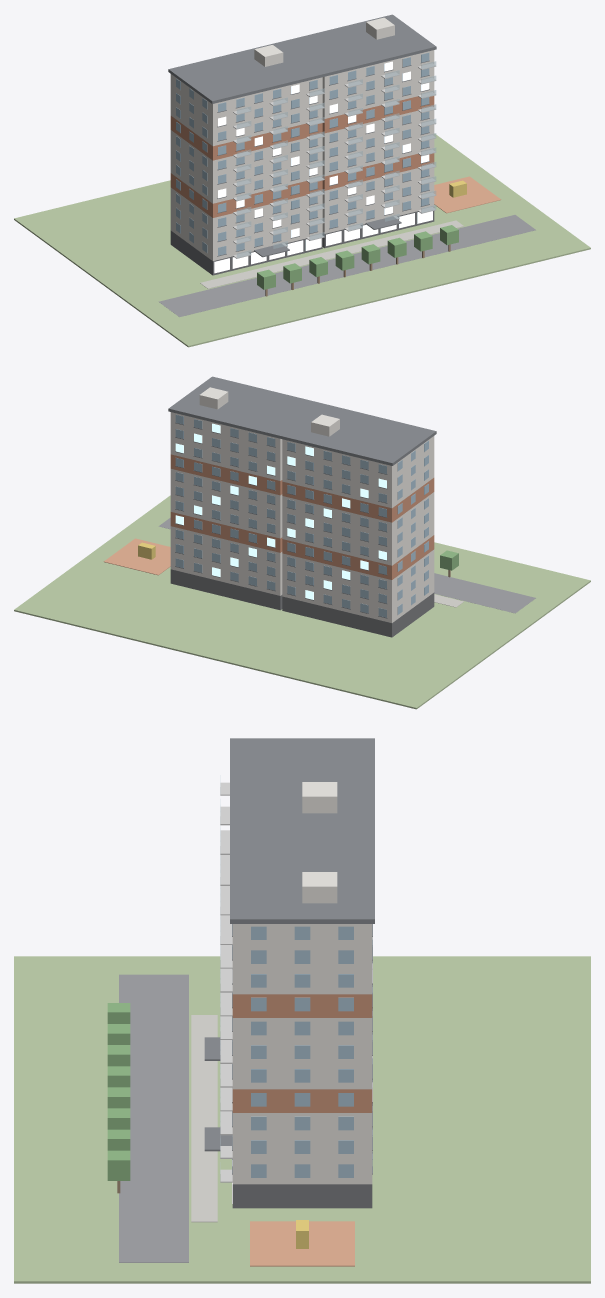
Rendered from building-a.glb.
3 renders of one model, top to bottom at view 1: azimuth 30°, elevation 25°; view 2: azimuth 150°, elevation 25°; view 3: azimuth 270°, elevation 25°, orthographic. The views are drawn at different scales.
Bounding box in the file's own units: 88 × 39 × 66.
